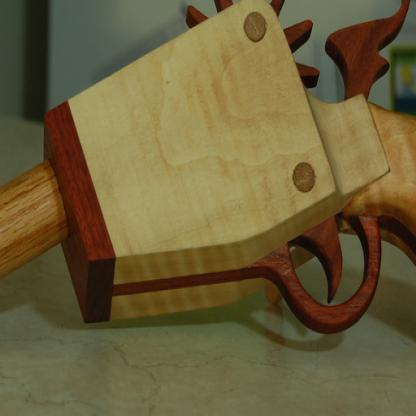gun: (0, 0, 415, 371)
